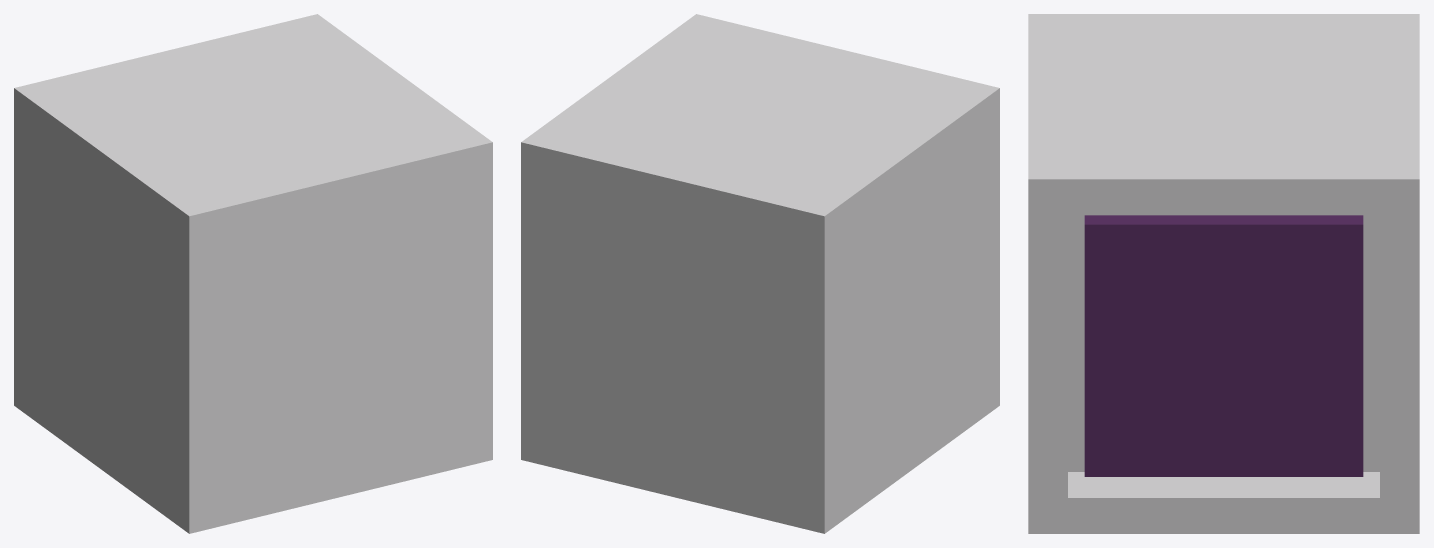
Rendered from SM_tissueHolder_01.glb.
3 renders of one model, left to right at view 1: azimuth 30°, elevation 25°; view 2: azimuth 150°, elevation 25°; view 3: azimuth 270°, elevation 25°, orthographic. The views are drawn at different scales.
Parts seen in each view (by area): view 1: SM_tissueHolder_01; view 2: SM_tissueHolder_01; view 3: SM_tissueHolder_01.
Boxes of the visible parts, box(x1,y1,x2,y2) form: SM_tissueHolder_01: box(14, 14, 492, 533); SM_tissueHolder_01: box(521, 14, 999, 533); SM_tissueHolder_01: box(1028, 14, 1419, 533).
Size of the model in its own units: 0.24 by 0.24 by 0.24.
Materials: 1 (1 with a texture image).
